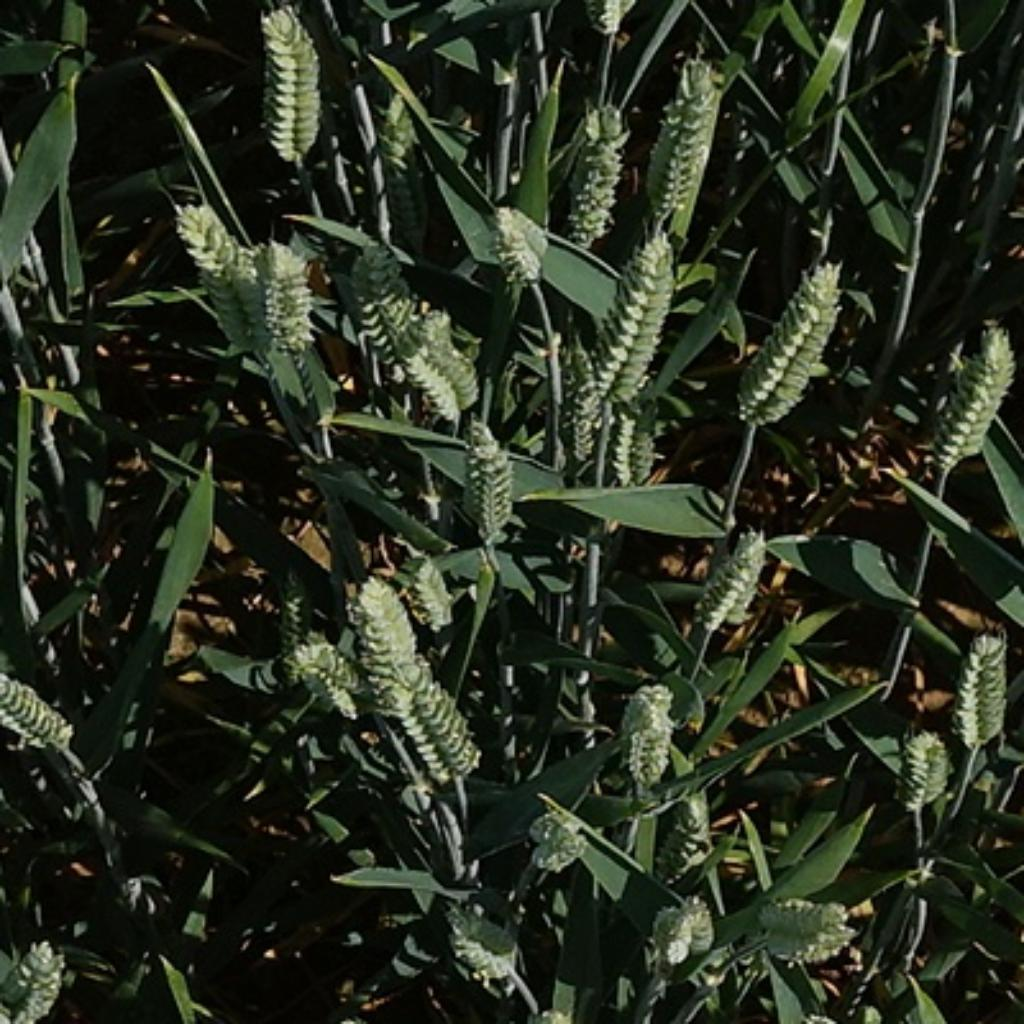0-0: (576, 227, 686, 417), (378, 583, 486, 775), (727, 262, 846, 427), (156, 199, 271, 366), (919, 314, 1024, 481), (343, 243, 430, 407), (642, 56, 724, 220), (340, 576, 432, 721), (255, 3, 333, 165), (552, 92, 627, 253), (368, 92, 440, 250), (686, 522, 778, 632), (235, 243, 322, 358), (435, 880, 524, 985), (540, 340, 606, 481), (396, 307, 476, 422), (744, 878, 852, 962), (455, 409, 519, 542), (611, 670, 683, 788), (949, 622, 1016, 747), (276, 627, 366, 711), (609, 367, 668, 495), (640, 888, 721, 977), (652, 798, 719, 901), (2, 668, 74, 760), (2, 929, 71, 1024), (888, 719, 957, 811), (485, 199, 552, 284), (522, 801, 593, 872), (407, 558, 453, 633)
